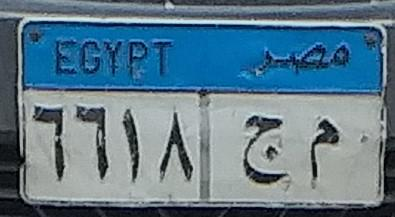1: (112, 106, 143, 193)
6: (77, 89, 113, 186), (34, 101, 72, 183)
8: (140, 101, 206, 204)
ج: (227, 98, 299, 193)
م: (291, 109, 341, 190)
